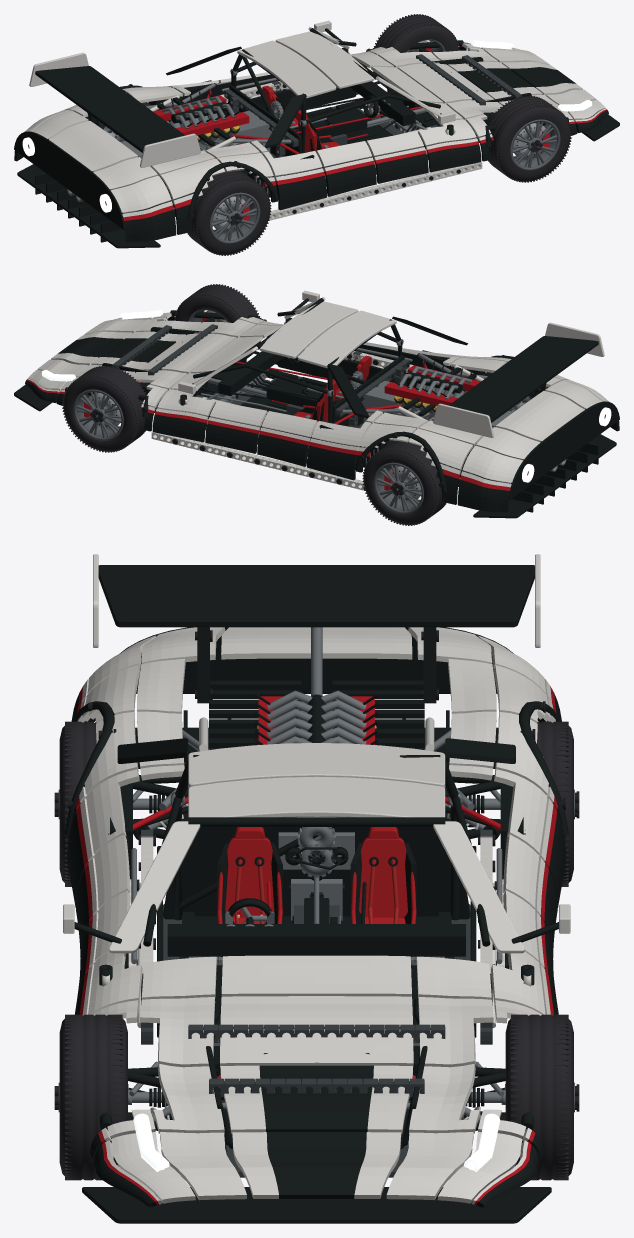
The picture shows the model from 3 angles, top to bottom: view 1: azimuth 30°, elevation 25°; view 2: azimuth 150°, elevation 25°; view 3: azimuth 270°, elevation 25°; orthographic projection. The views are drawn at different scales.
Visible parts, largest first — view 1: aleron_trasero, rueda_del_izq, rueda_tras_izq, panel_trasera, panel_techo_0, panel_techo_1, panel_carroceria_04, talonera_izq, rueda_del_der, llanta_del_izq, llanta_tras_izq, panel_carroceria_53 (+56 smaller); view 2: aleron_trasero, rueda_del_der, rueda_tras_der, panel_trasera, panel_techo_0, panel_techo_1, panel_carroceria_04, talonera_der, rueda_del_izq, llanta_del_der, llanta_tras_der, panel_carroceria_53 (+56 smaller); view 3: aleron_trasero, panel_carroceria_53, splitter_del, panel_carroceria_60, panel_carroceria_67, panel_techo_1, salpicadero, rueda_del_izq, rueda_del_der, panel_techo_0, panel_mamparo, panel_carroceria_46 (+65 smaller).
Part boxes in pixels (x1,y1,x2,y2): aleron_trasero: [35, 66, 184, 152]; rueda_del_izq: [487, 95, 571, 182]; rueda_tras_izq: [187, 170, 271, 255]; panel_trasera: [14, 131, 125, 229]; panel_techo_0: [237, 40, 336, 98]; panel_techo_1: [275, 31, 374, 88]; panel_carroceria_04: [49, 121, 137, 171]; talonera_izq: [269, 162, 482, 220]; rueda_del_der: [373, 14, 459, 88]; llanta_del_izq: [510, 119, 560, 170]; llanta_tras_izq: [210, 192, 260, 244]; panel_carroceria_53: [397, 63, 493, 104]; aleron_trasero: [449, 336, 598, 422]; rueda_del_der: [62, 365, 146, 452]; rueda_tras_der: [362, 440, 446, 525]; panel_trasera: [508, 401, 619, 499]; panel_techo_0: [297, 310, 396, 368]; panel_techo_1: [259, 301, 358, 358]; panel_carroceria_04: [496, 391, 584, 441]; talonera_der: [151, 432, 364, 490]; rueda_del_izq: [174, 284, 260, 358]; llanta_del_der: [73, 389, 123, 440]; llanta_tras_der: [373, 462, 423, 514]; panel_carroceria_53: [140, 333, 236, 374]; aleron_trasero: [98, 565, 534, 627]; panel_carroceria_53: [220, 996, 413, 1067]; splitter_del: [82, 1187, 551, 1223]; panel_carroceria_60: [220, 1065, 412, 1134]; panel_carroceria_67: [232, 1132, 401, 1198]; panel_techo_1: [188, 776, 445, 817]; salpicadero: [167, 924, 465, 956]; rueda_del_izq: [59, 1014, 127, 1180]; rueda_del_der: [505, 1014, 573, 1180]; panel_techo_0: [188, 743, 445, 787]; panel_mamparo: [163, 818, 470, 919]; panel_carroceria_46: [221, 955, 411, 996].
Size of the model in its own units: 0.6 by 0.14 by 0.27.
